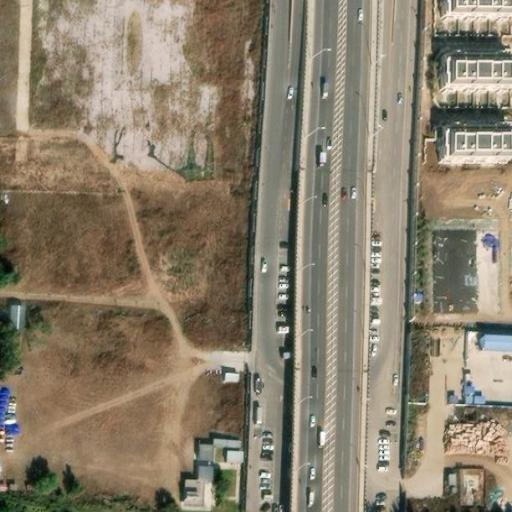building: (431, 225, 478, 311), (441, 55, 512, 90), (436, 128, 507, 162), (184, 444, 214, 508), (444, 0, 512, 18), (478, 330, 512, 351), (6, 299, 24, 329), (219, 444, 241, 461)
